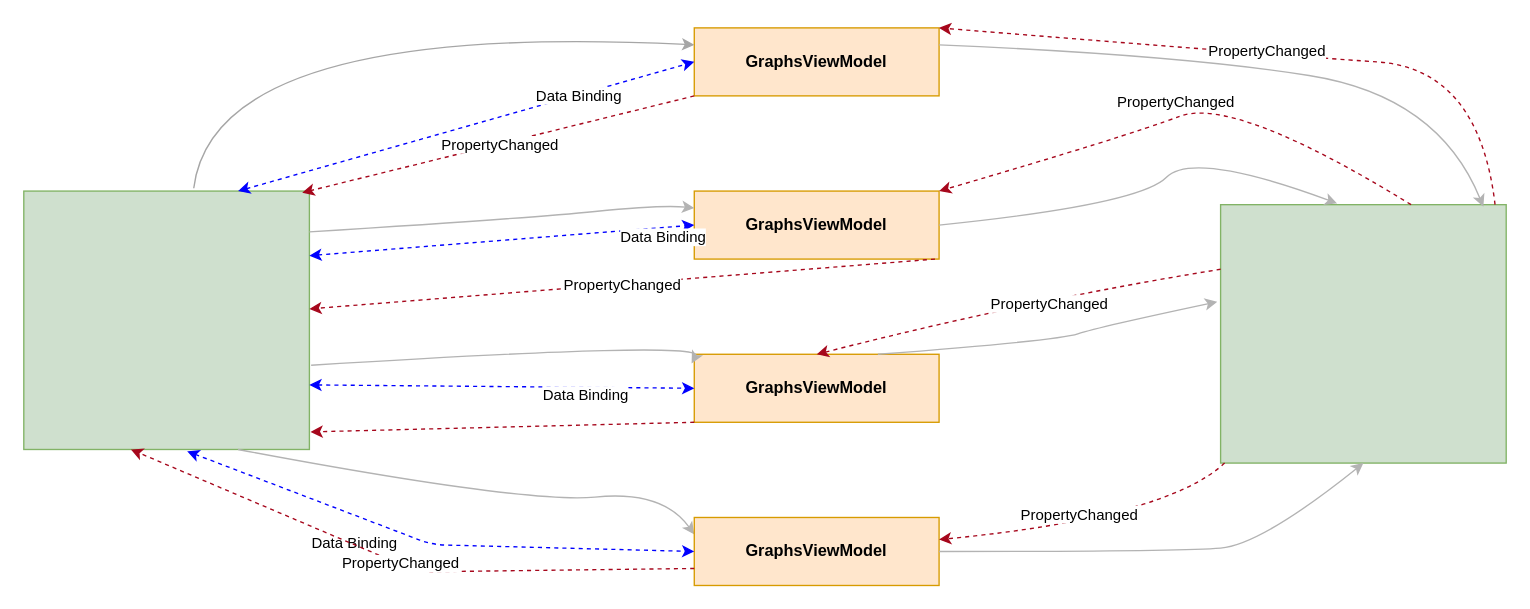
Some shapes in this 1530 by 609 pixel diagram are drawn without their labels. The shapes that lost their labels are listed below. From the top down, each one's centre as x and y in pixels, then its label:
(x=165, y=319): View (MainWindow) DashboardView GraphsView PlaybarView LoadFilesView
(x=1362, y=333): Model +connectFlightGear() +start()
